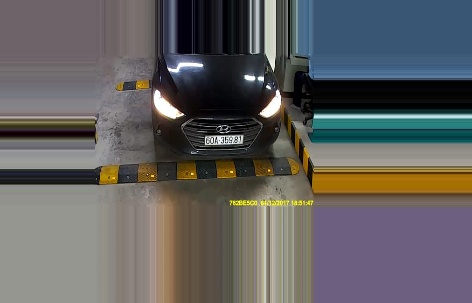plate: (204, 134, 246, 145)
